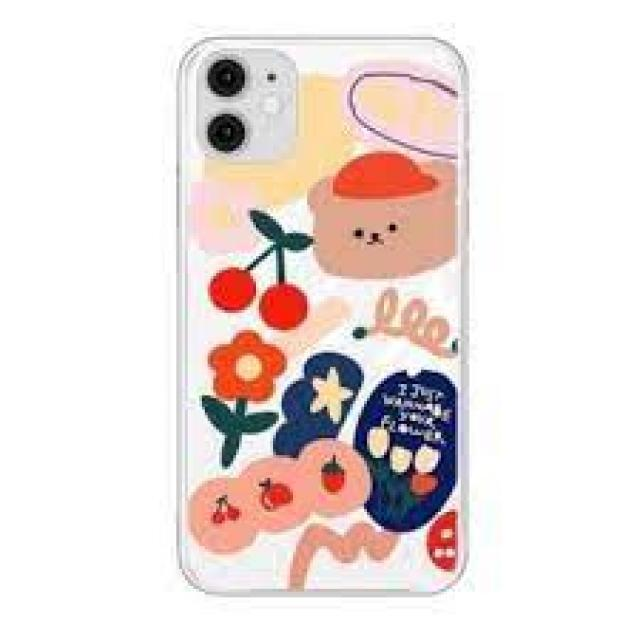Mobile: (170, 37, 471, 594)
